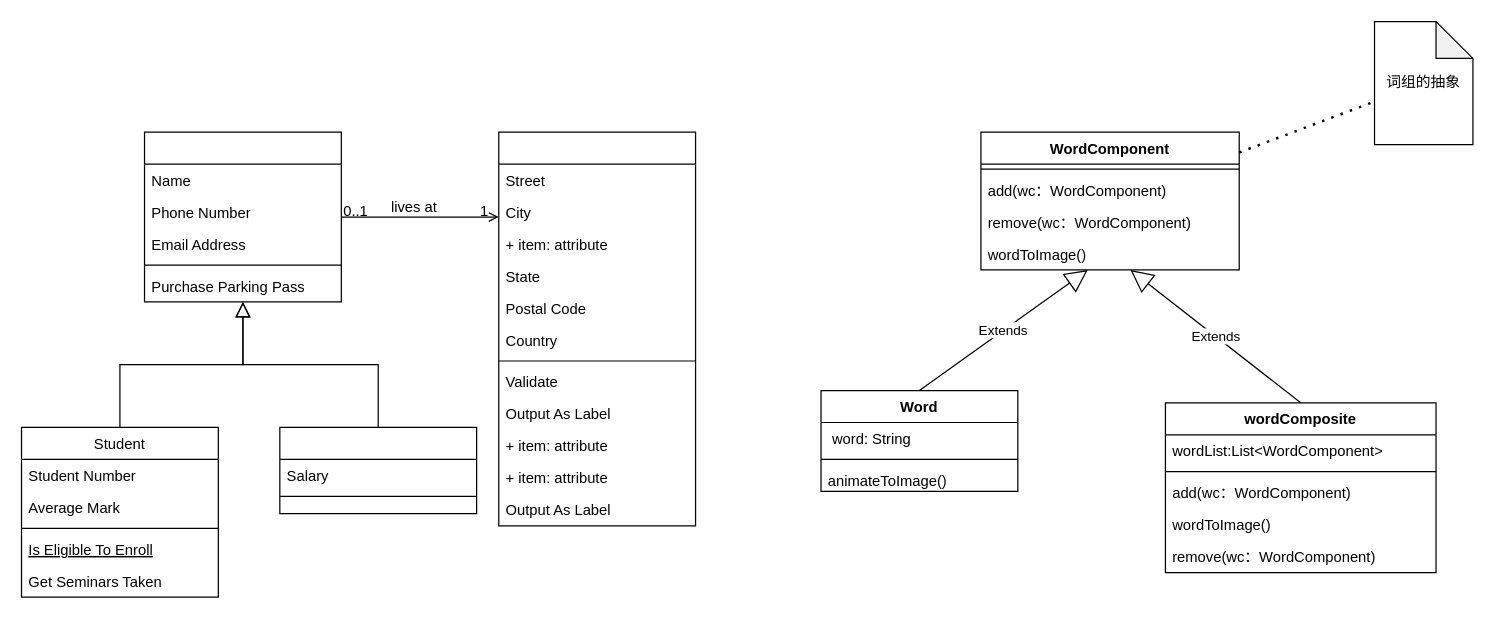
The diagram is 1494 pixels wide and 622 high, and some of its shapes have lost their labels. Each missing label, with the box of its shape:
Address: (498, 131, 696, 526)
Person: (143, 131, 341, 302)
Professor: (279, 426, 477, 514)
